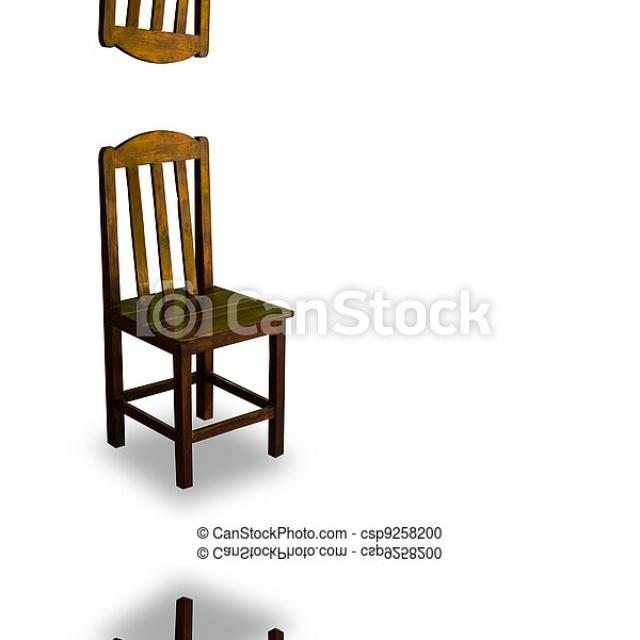obstacle: (89, 130, 334, 498), (88, 0, 333, 61), (88, 587, 333, 640)
